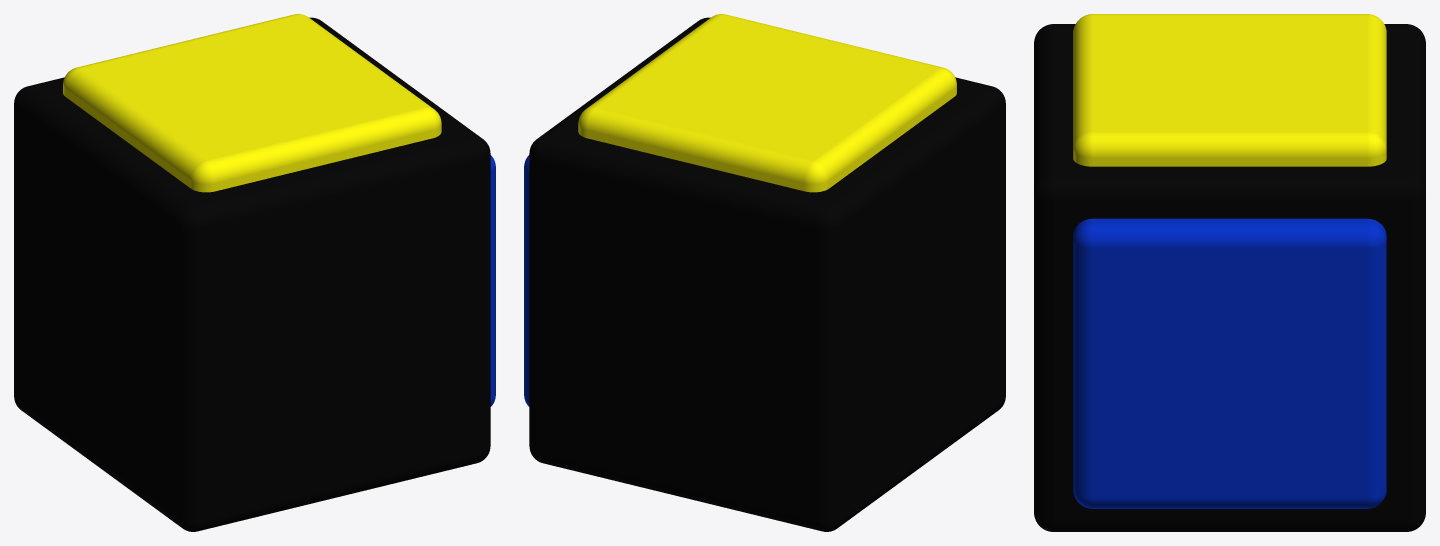
The model's file is cubinho(-1, 1, 0).obj.
3 renders of one model, left to right at view 1: azimuth 30°, elevation 25°; view 2: azimuth 150°, elevation 25°; view 3: azimuth 270°, elevation 25°, orthographic. The views are drawn at different scales.
Parts seen in each view (by area): view 1: (-1,_1,_0); view 2: (-1,_1,_0); view 3: (-1,_1,_0).
Part boxes in pixels (x1=…): (-1,_1,_0): x1=14, y1=14, x2=495, y2=531; (-1,_1,_0): x1=524, y1=14, x2=1005, y2=531; (-1,_1,_0): x1=1034, y1=14, x2=1425, y2=531.
Size of the model in its own units: 2.15 by 2.15 by 2.
